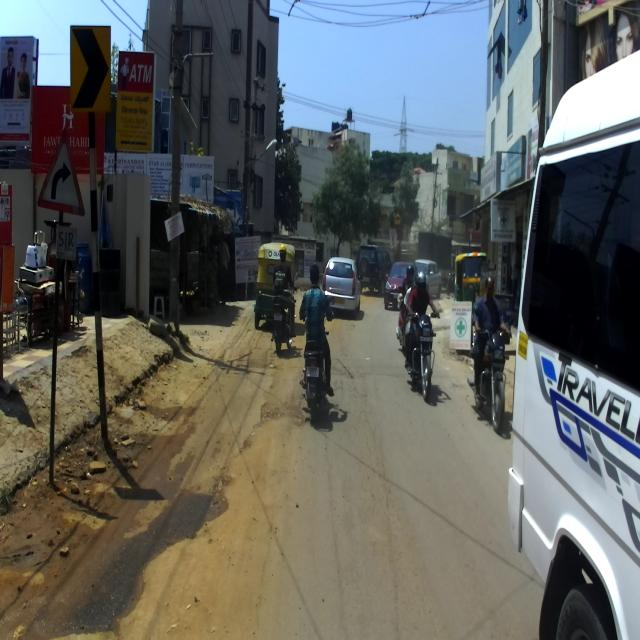electric pole ahead at: (162, 0, 215, 343)
motorcycle ahead at: (404, 305, 439, 407), (300, 340, 330, 418)
sign board ahead at: (66, 17, 117, 118), (36, 137, 89, 226)
